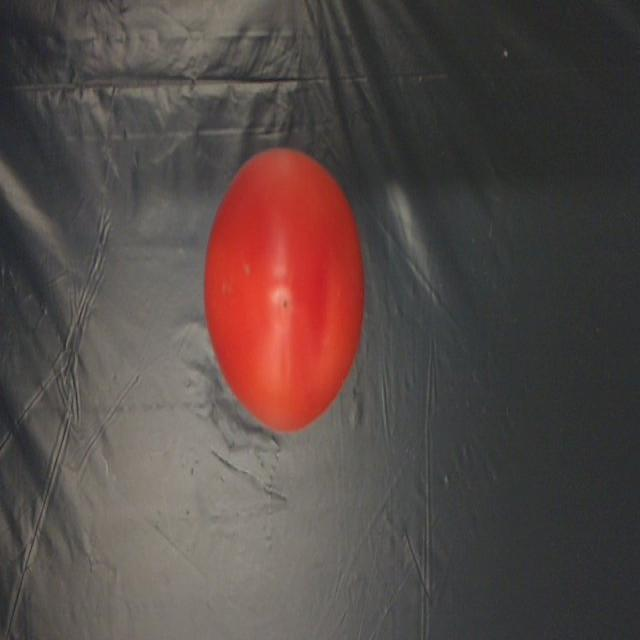kirmizi: (196, 139, 381, 440)
